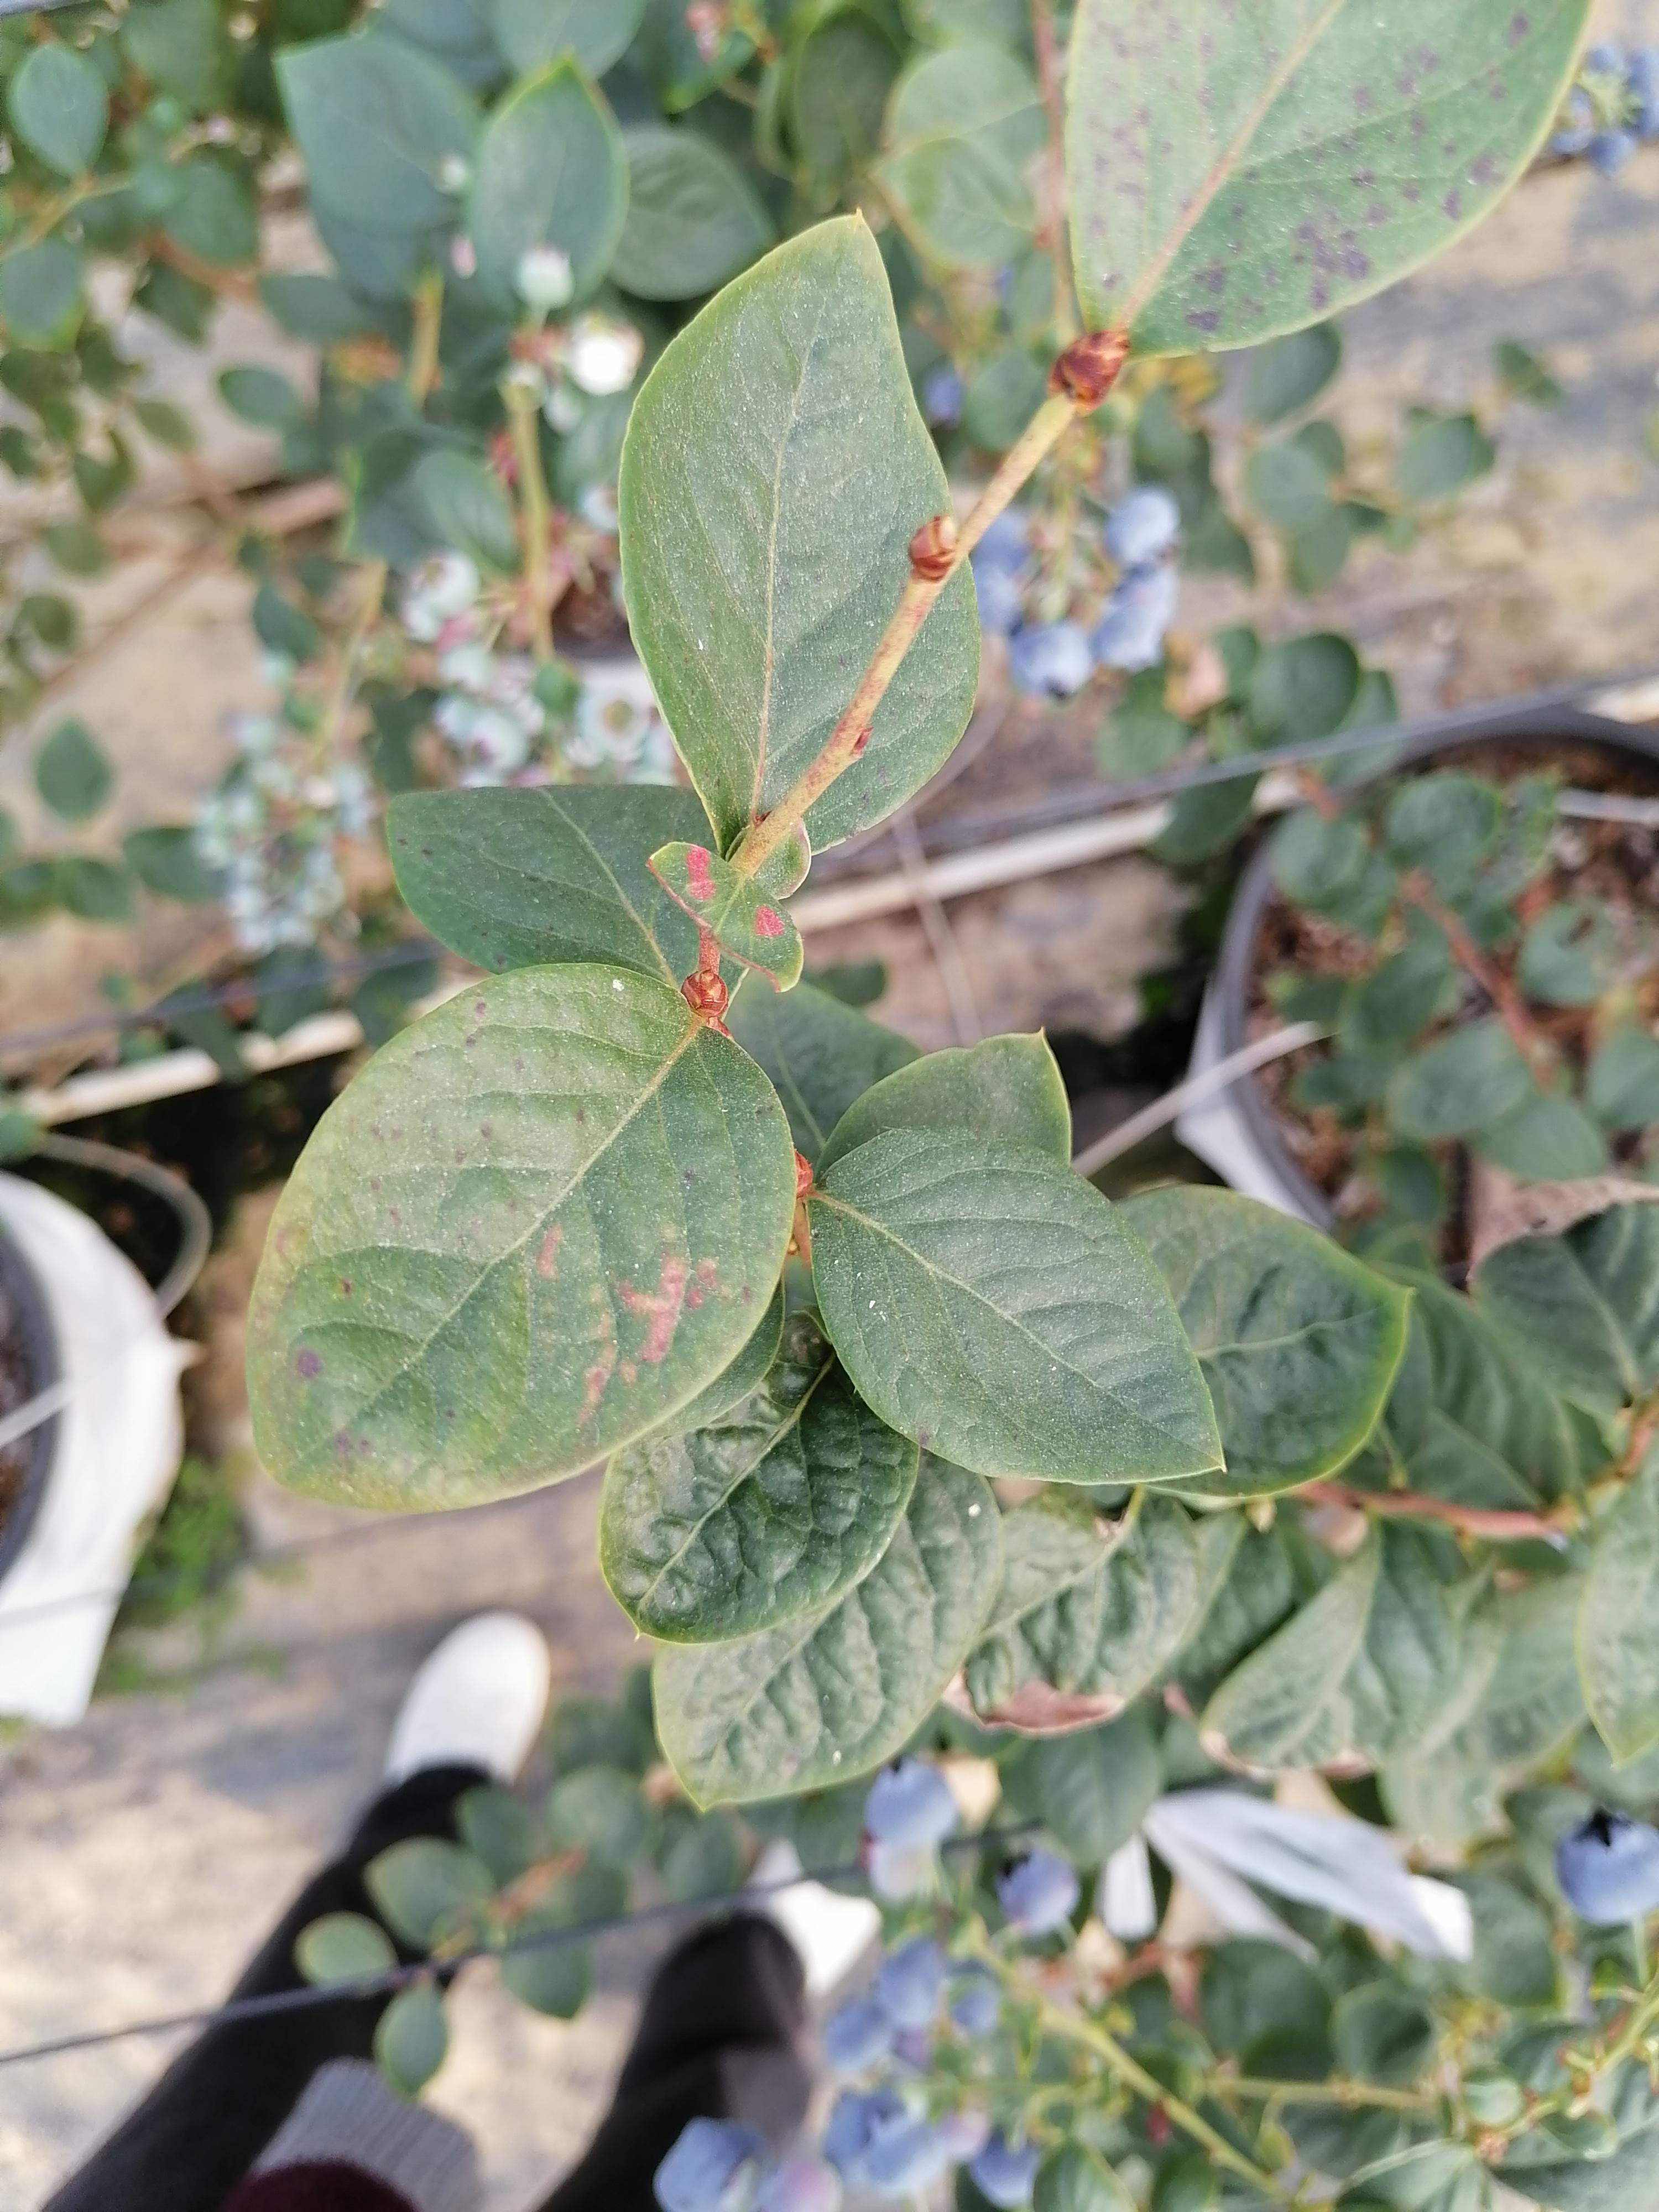ripe-blueberries: (1554, 1815, 1659, 1925), (657, 2125, 770, 2210), (861, 1756, 957, 1851), (821, 2092, 894, 2188), (1009, 625, 1100, 702), (1002, 1843, 1080, 1930), (863, 2116, 945, 2198), (1107, 486, 1182, 566), (972, 2128, 1049, 2202), (1093, 601, 1162, 671), (826, 2003, 890, 2074), (1108, 561, 1175, 625), (868, 1966, 938, 2027), (983, 566, 1025, 631), (981, 516, 1030, 566), (951, 1993, 992, 2033)
